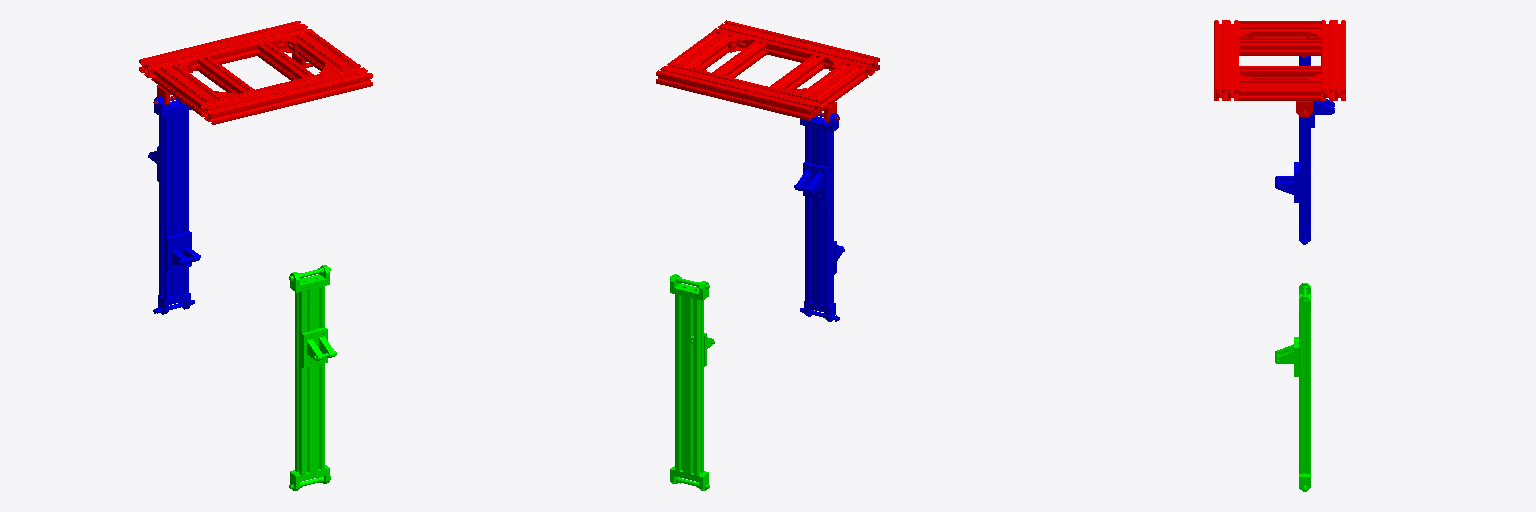
The robot description file, URDF, robot "hmr":
<?xml version="1.0" encoding="utf-8"?>
<robot xmlns:controller="http://playerstage.sourceforge.net/gazebo/xmlschema/#controller"
       xmlns:interface="http://playerstage.sourceforge.net/gazebo/xmlschema/#interface"
       xmlns:xacro="http://playerstage.sourceforge.net/gazebo/xmlschema/#xacro"
  name="hmr">

  <gazebo>
    <plugin name="gazebo_ros_control" filename="libgazebo_ros_control.so">
      <robotNamespace>/hmr</robotNamespace>
      <robotSimType>gazebo_ros_control/DefaultRobotHWSim</robotSimType>
    </plugin>
  </gazebo>  
  <link name="base">
    <inertial>
      <origin
        xyz="0.0 0.0 0.0"
        rpy="0 0 0" />
      <mass
        value="0.0" />
      <inertia
        ixx="0.0"
        ixy="0.0"
        ixz="0.0"
        iyy="0.0"
        iyz="0.0"
        izz="0.0" />
    </inertial>    
  </link>
  <gazebo reference="base">
    <material>Gazebo/Blue</material>
  </gazebo>      
  <!--BASE_LINK-->
  <link
    name="base_link">
    <inertial>
      <origin
        xyz="-0.000103296813793522 -0.0184749995894324 -0.00709986514009202"
        rpy="0 0 0" />
      <mass
        value="0.933836944447792" />
      <inertia
        ixx="0.00139201398308306"
        ixy="-2.82901658884336E-12"
        ixz="4.14929438991966E-12"
        iyy="0.00736197315629375"
        iyz="-8.0885885721078E-10"
        izz="0.00614175111526735" />
    </inertial>
    <visual>
      <origin
        xyz="0 0 0"
        rpy="0 0 0" />
      <geometry>
        <mesh
          filename="package://hmr/meshes/base_link.STL" />
      </geometry>
      <material name="red">
        <color rgba="1.0 0.0 0.0 1.0"/>
      </material>
    </visual>
    <collision>
      <origin
        xyz="0 0 0"
        rpy="0 0 0" />
      <geometry>
        <mesh
          filename="package://hmr/meshes/base_link.STL" />
      </geometry>
    </collision>
  </link>
  <gazebo reference="base_link">
    <material>Gazebo/Blue</material>
  </gazebo>  
  <joint name="joint" type="fixed">
    <parent link="base"/>
    <child link="base_link"/>
    <origin xyz="0.0 0.0 1.12" rpy="0.0 0.0 0.0"/>
  </joint>
  <!--LLINK1-->
  <link
    name="llink1">
    <inertial>
      <origin
        xyz="0.0499999851262689 -0.248500614775013 5.33671345059814E-05"
        rpy="0 0 0" />
      <mass
        value="0.509664464543895" />
      <inertia
        ixx="0.00405279295169879"
        ixy="-5.17821013423379E-16"
        ixz="-1.86028405386162E-17"
        iyy="0.000257140430774596"
        iyz="2.20410095949559E-06"
        izz="0.0041884713527824" />
    </inertial>
    <visual>
      <origin
        xyz="0 0 0"
        rpy="0 0 0" />
      <geometry>
        <mesh
          filename="package://hmr/meshes/llink1.STL" />
      </geometry>
      <material name="blue">
        <color rgba="0.0 0.0 1.0 1.0"/>
      </material>
    </visual>
    <collision>
      <origin
        xyz="0 0 0"
        rpy="0 0 0" />
      <geometry>
        <mesh
          filename="package://hmr/meshes/llink1.STL" />
      </geometry>
    </collision>
  </link>
  <gazebo reference="llink1">
    <material>Gazebo/Blue</material>
  </gazebo>    
  <joint
    name="ljoint1"
    type="continuous">
    <origin
      xyz="0.12 0.06 -0.06"
      rpy="1.5708 0 0" />
    <parent
      link="base_link" />
    <child
      link="llink1" />
    <axis
      xyz="1 0 0" />
    <limit lower="-0.6981" upper="1.0472" effort="2.0" velocity="0.2"/>
  </joint>
  <!--LLINK2-->
  <link
    name="llink2">
    <inertial>
      <origin
        xyz="0.0500545282509017 -0.234393633663144 0.00550026352716933"
        rpy="0 0 0" />
      <mass
        value="0.442265777754145" />
      <inertia
        ixx="0.0040117979862963"
        ixy="-5.09697896497051E-16"
        ixz="-2.77164071387431E-17"
        iyy="0.000241596436981563"
        iyz="-1.10278899850188E-06"
        izz="0.00416183117175302" />
    </inertial>
    <visual>
      <origin
        xyz="0 0 0"
        rpy="0 0 0" />
      <geometry>
        <mesh
          filename="package://hmr/meshes/llink2.STL" />
      </geometry>
      <material name="green">
        <color rgba="0.0 1.0 0.0 1.0"/>
      </material>
    </visual>
    <collision>
      <origin
        xyz="0 0 0"
        rpy="0 0 0" />
      <geometry>
        <mesh
          filename="package://hmr/meshes/llink2.STL" />
      </geometry>
    </collision>
  </link>
  <gazebo reference="llink2">
    <material>Gazebo/Blue</material>
  </gazebo>   
  <joint
    name="ljoint2"
    type="continuous">
    <origin
      xyz="0 -0.5 0"
      rpy="0 0 0" />
    <parent
      link="llink1" />
    <child
      link="llink2" />
    <axis
      xyz="1 0 0" />
    <limit lower="-1.0472" upper="0.0" effort="2.0" velocity="0.2"/>
  </joint>
  <!--LLINK3-->
  <link
    name="llink3">
    <inertial>
      <origin
        xyz="0.0501466994062446 -0.0351041894822217 0.0405185729509365"
        rpy="0 0 0" />
      <mass
        value="0.164387087553345" />
      <inertia
        ixx="0.000390399624612182"
        ixy="6.46553823154572E-18"
        ixz="7.16521493881578E-17"
        iyy="0.000442516689346383"
        iyz="-8.18654011913839E-11"
        izz="8.27552994226968E-05" />
    </inertial>
    <visual>
      <origin
        xyz="0 0 0"
        rpy="0 0 0" />
      <geometry>
        <mesh
          filename="package://hmr/meshes/llink3.STL" />
      </geometry>
      <material name="black">
        <color rgba="0.0 0.0 0.0 1.0"/>
      </material>
    </visual>
    <collision>
      <origin
        xyz="0 0 0"
        rpy="0 0 0" />
      <geometry>
        <mesh
          filename="package://hmr/meshes/llink3.STL" />
      </geometry>
    </collision>
  </link>
  <gazebo reference="llink3">
    <material>Gazebo/Blue</material>
  </gazebo>    
  <joint
    name="ljoint3"
    type="continuous">
    <origin
      xyz="0 -0.5 0"
      rpy="0 0 0" />
    <parent
      link="llink2" />
    <child
      link="llink3" />
    <axis
      xyz="1 0 0" />
    <limit lower="-0.8727" upper="0.5236" effort="2.0" velocity="0.2"/>
  </joint>
  <!--RLINK1-->
  <link
    name="rlink1">
    <inertial>
      <origin
        xyz="-0.0500000148736693 -0.248500614774999 5.33671345059189E-05"
        rpy="0 0 0" />
      <mass
        value="0.509664464543895" />
      <inertia
        ixx="0.00405279295169879"
        ixy="-5.17781100332924E-16"
        ixz="-1.86069004433025E-17"
        iyy="0.000257140430774596"
        iyz="2.20410095949557E-06"
        izz="0.0041884713527824" />
    </inertial>
    <visual>
      <origin
        xyz="0 0 0"
        rpy="0 0 0" />
      <geometry>
        <mesh
          filename="package://hmr/meshes/rlink1.STL" />
      </geometry>
      <material name="blue">
        <color rgba="0.0 0.0 1.0 1.0"/>
      </material>
    </visual>
    <collision>
      <origin
        xyz="0 0 0"
        rpy="0 0 0" />
      <geometry>
        <mesh
          filename="package://hmr/meshes/rlink1.STL" />
      </geometry>
    </collision>
  </link>
  <gazebo reference="rlink1">
    <material>Gazebo/Blue</material>
  </gazebo>    
  <joint
    name="rjoint1"
    type="continuous">
    <origin
      xyz="-0.12 0.06 -0.06"
      rpy="1.5708 0 0" />
    <parent
      link="base_link" />
    <child
      link="rlink1" />
    <axis
      xyz="1 0 0" />
    <limit lower="-0.6981" upper="1.0472" effort="2.0" velocity="0.2"/>
  </joint>
  <!--RLINK2-->
  <link
    name="rlink2">
    <inertial>
      <origin
        xyz="-0.049945471749016 -0.234393633663131 0.00550026352714499"
        rpy="0 0 0" />
      <mass
        value="0.442265777754145" />
      <inertia
        ixx="0.00401179798629629"
        ixy="-5.09803878440693E-16"
        ixz="-2.77168469663556E-17"
        iyy="0.000241596436981563"
        iyz="-1.10278899850179E-06"
        izz="0.00416183117175302" />
    </inertial>
    <visual>
      <origin
        xyz="0 0 0"
        rpy="0 0 0" />
      <geometry>
        <mesh
          filename="package://hmr/meshes/rlink2.STL" />
      </geometry>
      <material name="green">
        <color rgba="0.0 1.0 0.0 1.0"/>
      </material>
    </visual>
    <collision>
      <origin
        xyz="0 0 0"
        rpy="0 0 0" />
      <geometry>
        <mesh
          filename="package://hmr/meshes/rlink2.STL" />
      </geometry>
    </collision>
  </link>
  <gazebo reference="rlink2">
    <material>Gazebo/Blue</material>
  </gazebo>   
  <joint
    name="rjoint2"
    type="continuous">
    <origin
      xyz="0 -0.5 0"
      rpy="0 0 0" />
    <parent
      link="rlink1" />
    <child
      link="rlink2" />
    <axis
      xyz="1 0 0" />
    <limit lower="-1.0472" upper="0.0" effort="2.0" velocity="0.2"/>
  </joint>  
  <!--RLINK3-->
  <link
    name="rlink3">
    <inertial>
      <origin
        xyz="-0.0498532993324217 -0.0351041894822506 0.040518572950845"
        rpy="0 0 0" />
      <mass
        value="0.164387087553345" />
      <inertia
        ixx="0.000390399624612182"
        ixy="6.46331811347987E-18"
        ixz="7.16490435411506E-17"
        iyy="0.000442516689346383"
        iyz="-8.18654011935542E-11"
        izz="8.27552994226968E-05" />
    </inertial>
    <visual>
      <origin
        xyz="0 0 0"
        rpy="0 0 0" />
      <geometry>
        <mesh
          filename="package://hmr/meshes/rlink3.STL" />
      </geometry>
      <material name="black">
        <color rgba="0.0 0.0 0.0 1.0"/>
      </material>
    </visual>
    <collision>
      <origin
        xyz="0 0 0"
        rpy="0 0 0" />
      <geometry>
        <mesh
          filename="package://hmr/meshes/rlink3.STL" />
      </geometry>
    </collision>
  </link>
  <gazebo reference="rlink3">
    <material>Gazebo/Blue</material>
  </gazebo>    
  <joint
    name="rljoint3"
    type="continuous">
    <origin
      xyz="0 -0.5 0"
      rpy="0 0 0" />
    <parent
      link="rlink2" />
    <child
      link="rlink3" />
    <axis
      xyz="1 0 0" />
    <limit lower="-0.8727" upper="0.5236" effort="2.0" velocity="0.2"/>  
  </joint>
</robot>

--- Facts derived from the render (not from the file) ---
Views: 3 orthographic renders of the robot side by side, from view 1: azimuth 30°, elevation 25°; view 2: azimuth 150°, elevation 25°; view 3: azimuth 270°, elevation 25°.
Robot: hmr — 8 links, 7 joints (6 continuous, 1 fixed); root link base; default pose: all joints at 0.
Links seen in each view (by area): view 1: base_link, llink2, rlink1; view 2: base_link, llink2, rlink1; view 3: base_link, llink2, rlink1.
Link boxes in pixels (x1,y1,x2,y2): base_link: (139, 21, 372, 124); llink2: (289, 265, 336, 490); rlink1: (148, 96, 200, 314); base_link: (656, 20, 879, 122); llink2: (670, 274, 714, 490); rlink1: (794, 112, 844, 321); base_link: (1214, 20, 1345, 117); llink2: (1275, 283, 1310, 491); rlink1: (1275, 56, 1334, 244).
Size in the robot's own frame: 0.44 by 0.32 by 1.07 metres.
3 mesh visuals loaded from 7 distinct referenced files (3 binary STL); not drawn: 4 (reference not matched to a file when rendering).